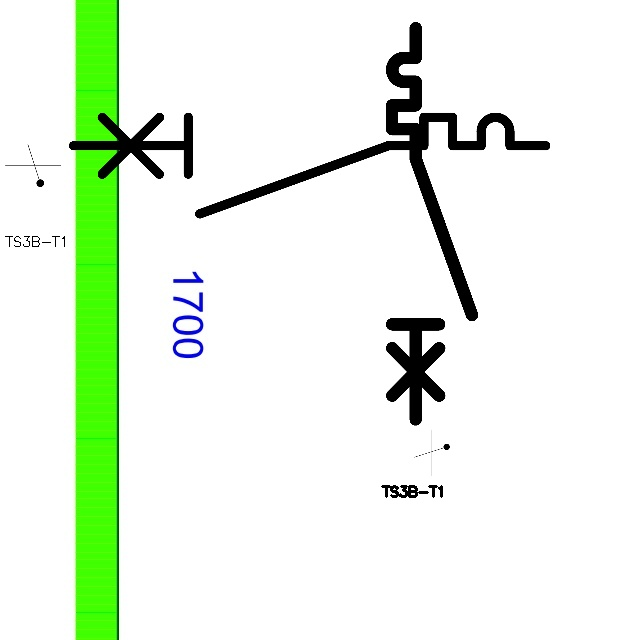interruptor_termomagnetico: (61, 105, 558, 226), (382, 18, 482, 429)
